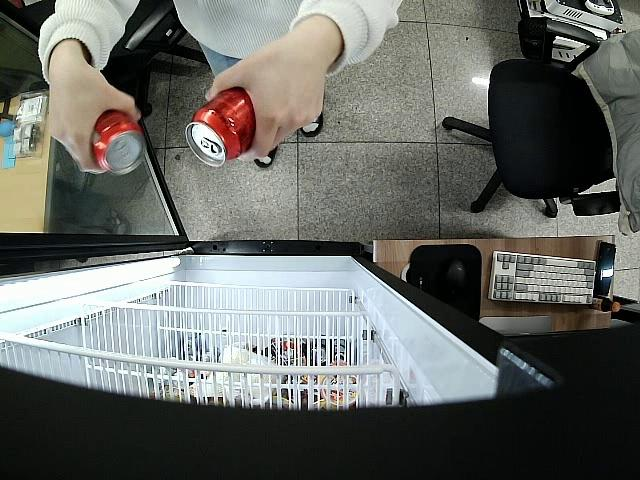00_hand: (204, 42, 325, 164), (46, 64, 142, 175)
11_cocaColaZero: (184, 85, 255, 169), (90, 110, 147, 174)
